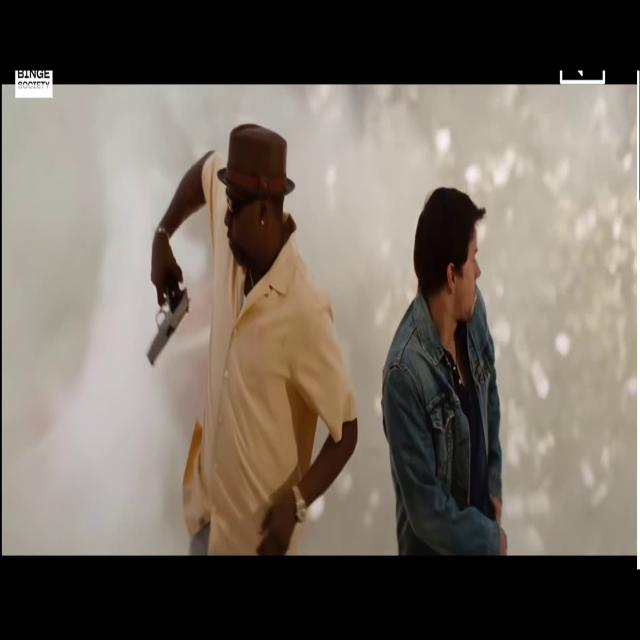weapons: (138, 267, 200, 383)
